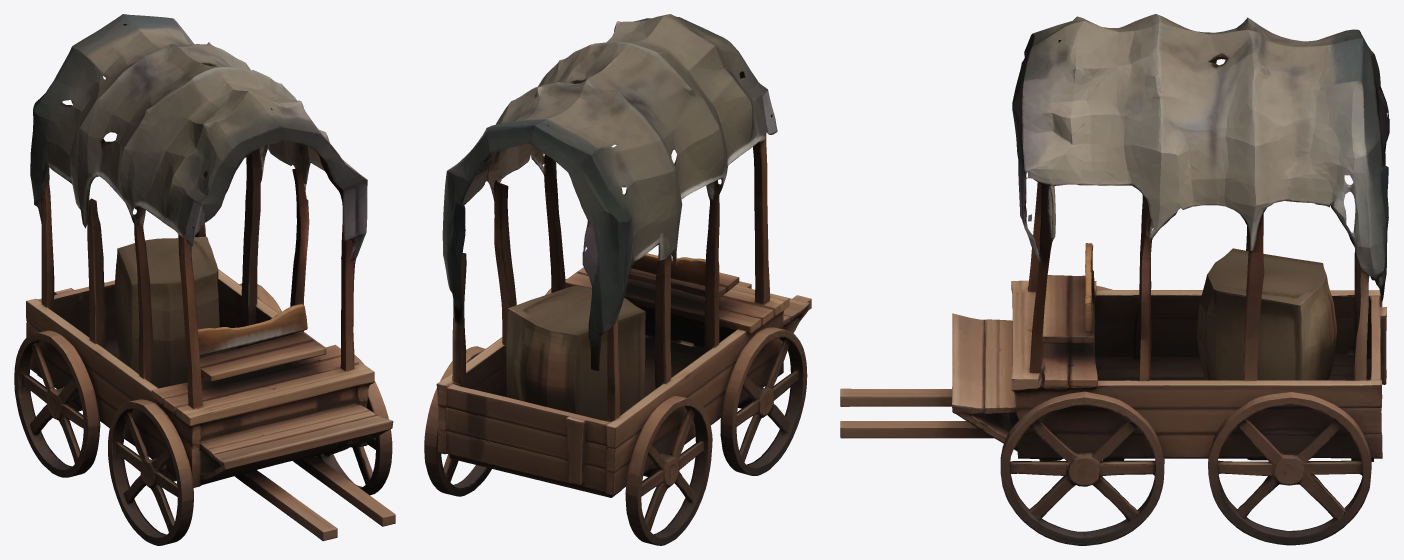
File: nano_t04.glb
3 renders of one model, left to right at view 1: azimuth 30°, elevation 25°; view 2: azimuth 150°, elevation 25°; view 3: azimuth 270°, elevation 25°, orthographic. The views are drawn at different scales.
Parts seen in each view (by area): view 1: geometry_0; view 2: geometry_0; view 3: geometry_0.
Boxes of the visible parts, <box> form: geometry_0: <box>14,14,395,545</box>; geometry_0: <box>424,14,811,545</box>; geometry_0: <box>840,14,1389,545</box>.
Size of the model in its own units: 0.9663 by 1.86 by 1.97.
1 material, 1 textured.
